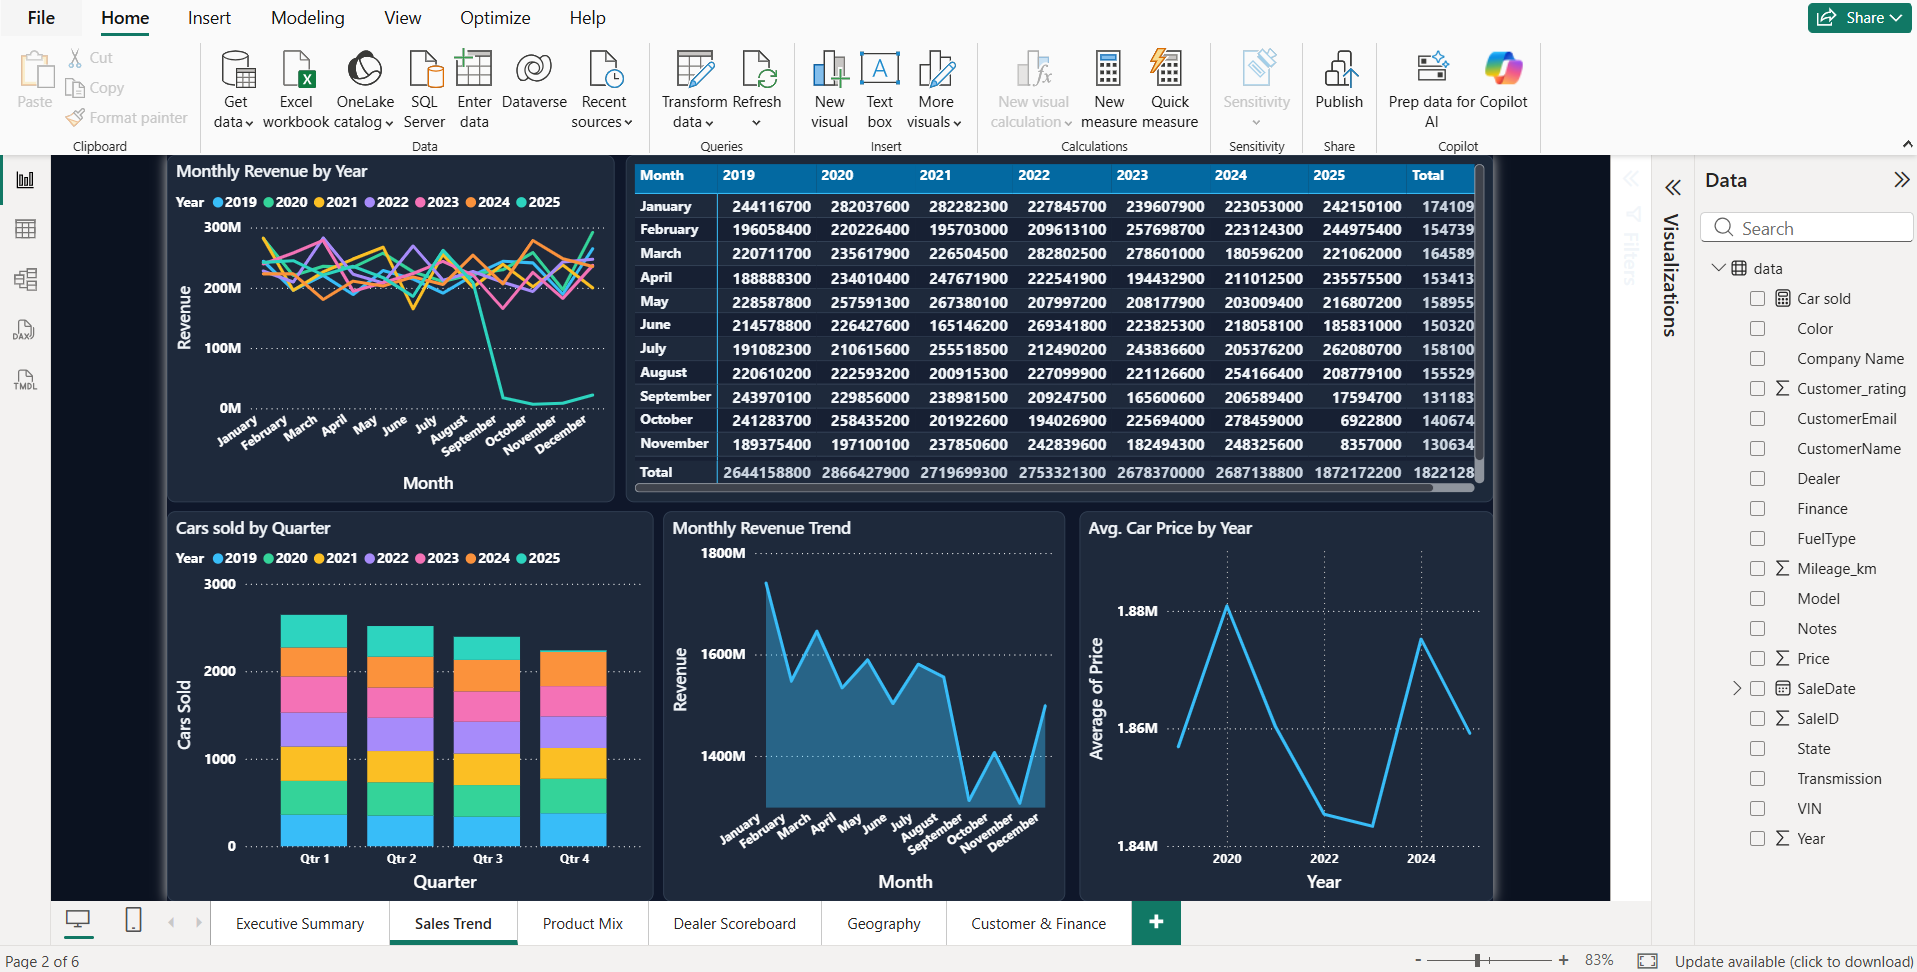

What the dashboard file says about the page in this screenshot:
{"tool":"powerbi","page":{"name":"Sales Trend","canvas":[1280,720],"ordinal":1},"visuals":[{"type":"lineChart","title":"Monthly Revenue by Year","fields":{"Y":["Sum(data.Price)"],"Category":["data.SaleDate.Variation.Date Hierarchy.Month"],"Series":["data.SaleDate.Variation.Date Hierarchy.Year"]},"box":[0,0,431.7,335.1],"z":0},{"type":"pivotTable","fields":{"Columns":["data.SaleDate.Variation.Date Hierarchy.Year"],"Values":["Sum(data.Price)"],"Rows":["data.SaleDate.Variation.Date Hierarchy.Month"]},"box":[442.7,0,837.6,335.1],"z":1000},{"type":"columnChart","title":"Cars sold by Quarter","fields":{"Series":["data.SaleDate.Variation.Date Hierarchy.Year"],"Y":["data.Car sold"],"Category":["data.SaleDate.Variation.Date Hierarchy.Quarter"]},"box":[0,343.6,469.6,376.6],"z":2000},{"type":"lineChart","title":"Avg. Car Price by Year","fields":{"Category":["data.SaleDate.Variation.Date Hierarchy.Year"],"Y":["Avg(data.Price)"]},"box":[880.4,343.6,399.9,376.6],"z":3000},{"type":"areaChart","title":"Monthly Revenue Trend","fields":{"Y":["Sum(data.Price)"],"Category":["data.SaleDate.Variation.Date Hierarchy.Month"]},"box":[479.4,343.6,387.6,376.6],"z":4000}]}

Visuals, with their boxes on the page's 1280x720 design canvas (x1, y1, x2, y2). These are canvas units, not pixel positions in the 1917x972 screenshot, which may show the page scaled, cropped or inside an application window:
"Monthly Revenue by Year" lineChart: select_region(0, 0, 432, 335)
pivotTable - data.SaleDate.Variation.Date Hierarchy.Year x Sum(data.Price): select_region(443, 0, 1280, 335)
"Cars sold by Quarter" columnChart: select_region(0, 344, 470, 720)
"Avg. Car Price by Year" lineChart: select_region(880, 344, 1280, 720)
"Monthly Revenue Trend" areaChart: select_region(479, 344, 867, 720)
